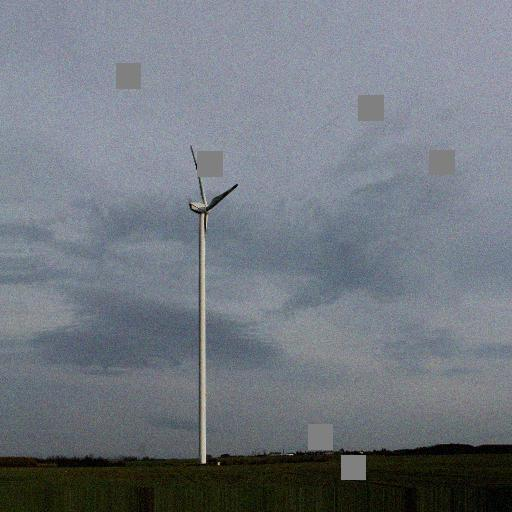wind turbine: (187, 142, 239, 460)
